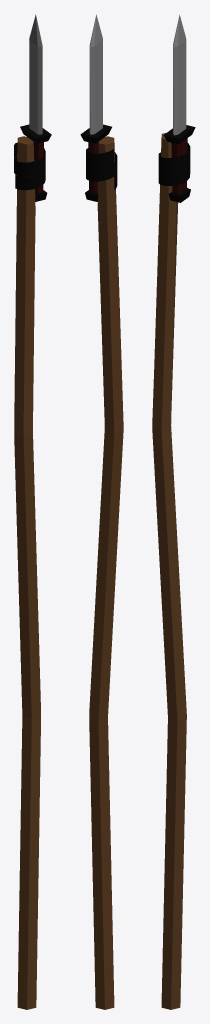
File: Spear.fbx
The picture shows the model from 3 angles, left to right: view 1: azimuth 30°, elevation 25°; view 2: azimuth 150°, elevation 25°; view 3: azimuth 330°, elevation 25°; orthographic projection.
Visible parts, largest first — view 1: Spear; view 2: Spear; view 3: Spear.
Boxes of the visible parts, x1,y1,x2,y2 form: Spear: [14, 14, 51, 1009]; Spear: [80, 14, 123, 1009]; Spear: [152, 14, 195, 1009].
Size of the model in its own units: 5.91 by 172 by 5.14.
